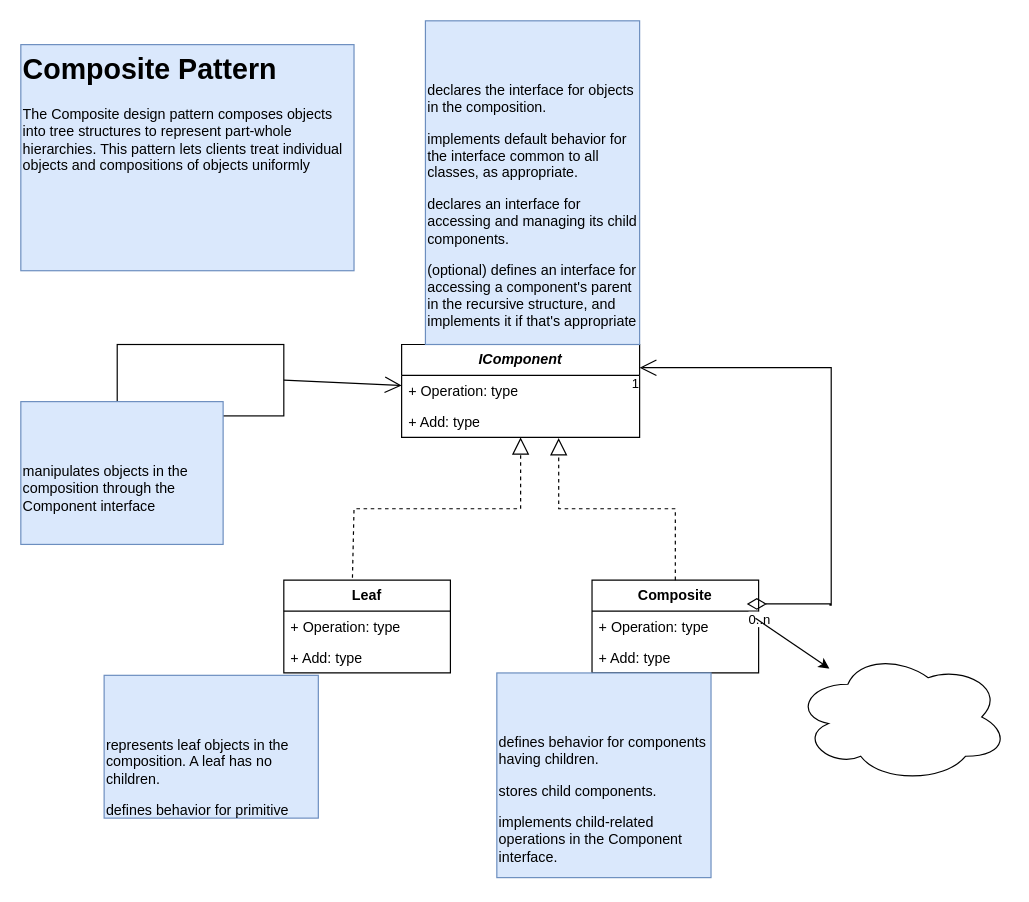
This 1029x902 diagram has some shape labels left out. The shapes that lost their labels are listed below. From the top down, each one's centre as x and y in pixels, then its label:
At (x=200, y=379): "Client".
At (x=901, y=716): "for each IComponent".
